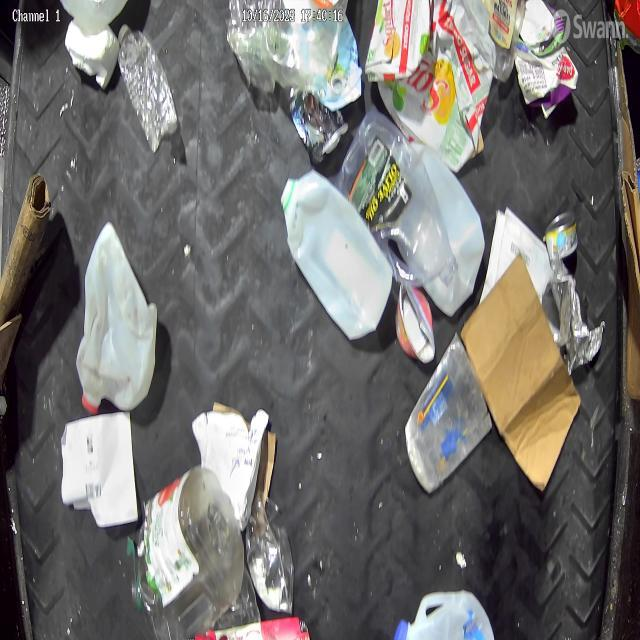can: (545, 215, 582, 268)
milk_jug: (283, 173, 388, 331), (77, 218, 157, 416)
plastic_bottle: (120, 22, 178, 151)
